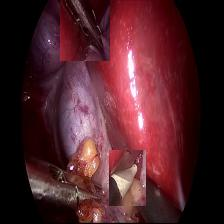Grasper: (32, 159, 107, 222), (60, 0, 110, 61)
Hook: (109, 150, 146, 206)
